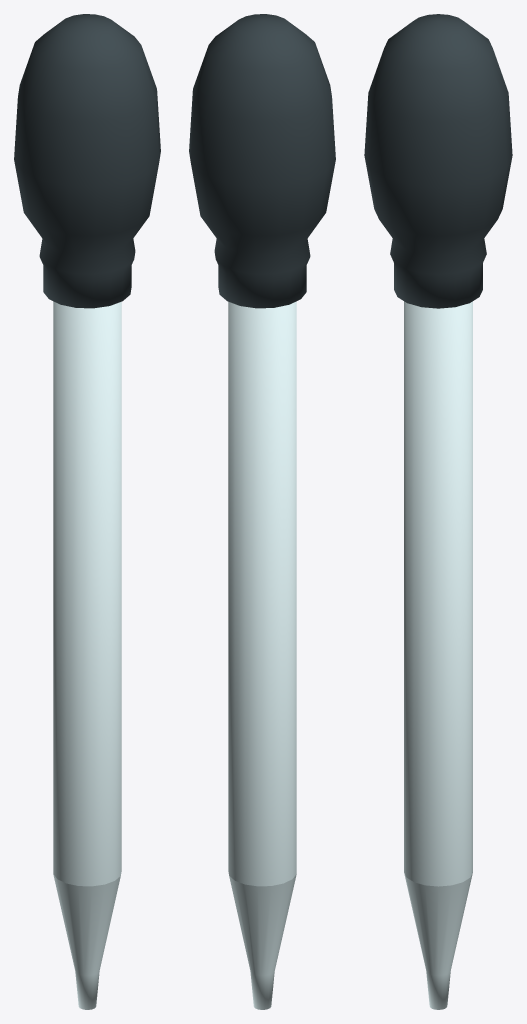
The model's file is VLAB_dropper.fbx.
The picture shows the model from 3 angles, left to right: view 1: azimuth 30°, elevation 25°; view 2: azimuth 150°, elevation 25°; view 3: azimuth 270°, elevation 25°; orthographic projection.
Parts seen in each view (by area): view 1: VLAB_dropper_Tube_VIS, VLAB_dropper_Bulb_VIS, VLAB_dropper_Tip_VIS; view 2: VLAB_dropper_Tube_VIS, VLAB_dropper_Bulb_VIS, VLAB_dropper_Tip_VIS; view 3: VLAB_dropper_Tube_VIS, VLAB_dropper_Bulb_VIS, VLAB_dropper_Tip_VIS.
Boxes of the visible parts, x1,y1,x2,y2 form: VLAB_dropper_Tube_VIS: (53, 301, 121, 886); VLAB_dropper_Bulb_VIS: (14, 14, 160, 308); VLAB_dropper_Tip_VIS: (53, 874, 120, 1009); VLAB_dropper_Tube_VIS: (228, 301, 296, 886); VLAB_dropper_Bulb_VIS: (189, 14, 335, 308); VLAB_dropper_Tip_VIS: (229, 874, 296, 1009); VLAB_dropper_Tube_VIS: (404, 301, 472, 886); VLAB_dropper_Bulb_VIS: (364, 14, 512, 308); VLAB_dropper_Tip_VIS: (404, 872, 472, 1009).
Bounding box in the file's own units: 0.015 × 0.11 × 0.015.
